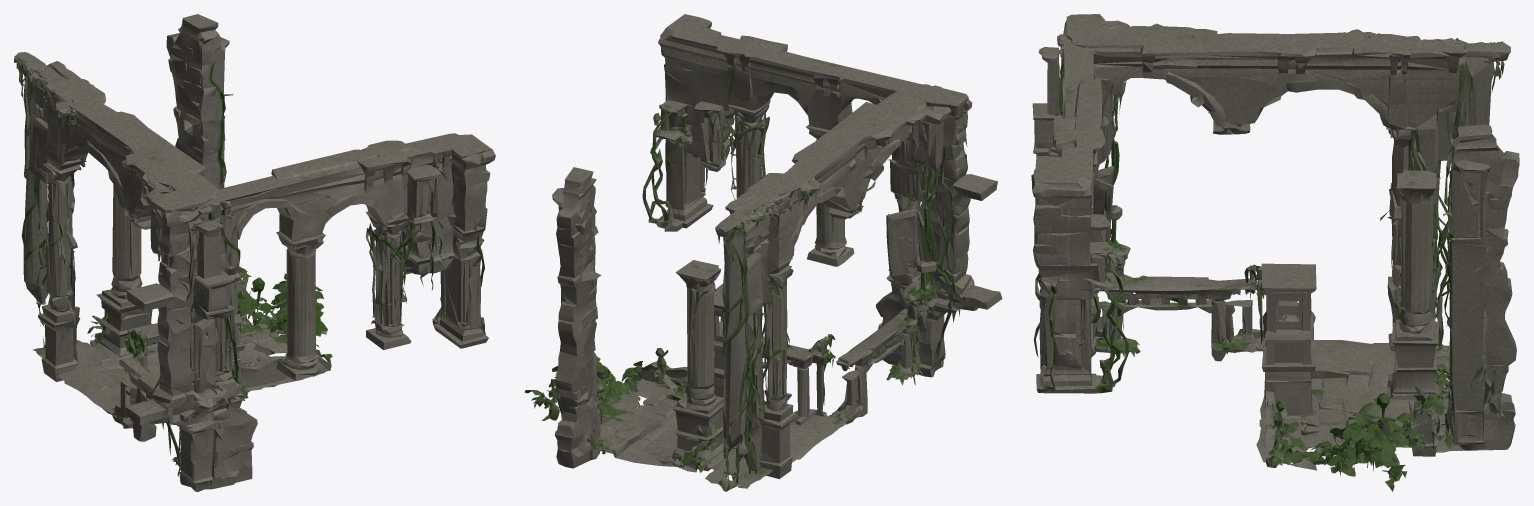
File: ruinas.glb
3 renders of one model, left to right at view 1: azimuth 30°, elevation 25°; view 2: azimuth 150°, elevation 25°; view 3: azimuth 270°, elevation 25°, orthographic. The views are drawn at different scales.
Bounding box in the file's own units: 1.69 × 1.38 × 1.9.
1 material, 1 textured.
